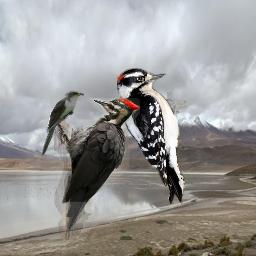Cuckoo: (40, 90, 84, 157)
Woodpecker: (54, 98, 140, 240), (117, 68, 186, 204)
